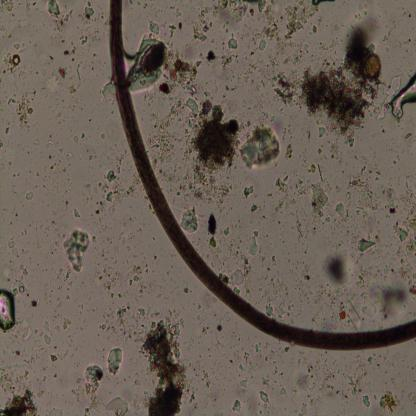Air bubble: (391, 73, 416, 120), (0, 286, 18, 332)
Background material: (286, 6, 392, 137), (181, 96, 240, 168), (139, 320, 184, 414), (255, 2, 324, 54), (100, 267, 148, 340), (128, 20, 171, 92), (174, 163, 232, 209), (149, 100, 181, 168), (294, 156, 330, 214), (240, 125, 282, 168), (346, 163, 378, 217), (93, 169, 125, 220), (267, 66, 298, 115), (394, 214, 416, 281), (325, 285, 360, 327), (162, 58, 202, 94), (60, 228, 90, 273), (381, 282, 416, 320), (295, 360, 335, 393), (7, 90, 38, 131), (262, 285, 296, 320), (0, 385, 37, 415), (39, 57, 63, 98), (323, 248, 350, 284), (189, 10, 214, 46), (220, 1, 255, 26), (207, 39, 241, 64), (78, 360, 104, 392), (102, 345, 124, 379), (382, 182, 402, 219), (0, 367, 33, 389), (178, 204, 200, 236), (344, 371, 367, 400), (377, 387, 402, 413), (47, 1, 74, 25), (102, 393, 130, 415), (402, 172, 416, 214), (244, 227, 262, 259), (266, 194, 286, 222), (356, 265, 376, 292), (204, 212, 218, 250), (226, 263, 247, 288), (233, 346, 252, 372), (12, 265, 30, 292), (0, 52, 22, 74), (262, 265, 285, 286), (238, 60, 258, 84), (359, 294, 378, 319), (353, 236, 382, 252), (128, 391, 150, 412), (56, 268, 75, 292), (300, 262, 318, 286), (310, 215, 331, 235), (88, 389, 103, 416), (274, 173, 292, 195), (100, 77, 116, 101), (69, 63, 81, 95), (80, 0, 96, 24), (335, 202, 351, 226), (41, 320, 54, 348), (125, 173, 140, 197), (297, 217, 310, 244), (72, 372, 82, 406), (211, 246, 228, 266), (329, 139, 343, 163), (367, 350, 381, 374), (185, 357, 200, 379), (64, 96, 82, 114), (25, 0, 41, 20), (226, 240, 242, 260), (186, 387, 199, 410), (23, 351, 44, 365), (47, 162, 65, 178), (82, 177, 93, 203), (313, 285, 326, 307), (296, 398, 311, 416), (211, 63, 227, 79), (162, 308, 180, 322), (56, 290, 68, 311), (298, 288, 312, 306), (257, 390, 272, 406), (7, 238, 19, 258), (56, 317, 72, 332), (200, 368, 212, 388), (383, 356, 400, 370), (43, 132, 55, 151), (0, 0, 15, 15), (63, 45, 77, 61), (57, 344, 70, 361), (258, 74, 268, 96), (55, 25, 67, 43), (258, 110, 276, 122), (272, 360, 284, 378), (360, 392, 372, 410), (241, 257, 251, 278), (160, 169, 174, 184), (20, 222, 35, 236), (115, 150, 126, 169), (354, 353, 365, 372), (237, 377, 250, 393), (242, 182, 255, 198), (231, 397, 243, 414), (119, 234, 131, 251), (284, 144, 294, 164), (22, 324, 33, 342), (208, 390, 219, 408), (168, 6, 183, 19), (200, 324, 212, 340), (48, 404, 64, 416), (310, 312, 322, 328), (348, 252, 364, 264), (127, 353, 138, 370), (212, 3, 223, 20), (374, 219, 382, 242), (1, 27, 14, 41), (209, 339, 224, 351), (210, 75, 218, 97), (55, 112, 66, 128), (146, 306, 162, 317), (285, 122, 294, 141), (50, 239, 60, 256), (337, 386, 348, 401), (252, 339, 263, 354), (72, 132, 87, 143), (77, 30, 88, 45), (381, 264, 391, 280), (270, 54, 280, 70), (387, 374, 398, 388), (72, 206, 82, 221), (142, 92, 157, 102), (359, 154, 371, 166), (169, 24, 178, 40), (260, 374, 272, 386), (39, 372, 50, 385), (252, 360, 262, 374), (91, 28, 100, 43), (30, 296, 41, 308), (378, 121, 388, 134), (408, 392, 416, 408), (280, 127, 288, 143), (221, 20, 230, 34), (309, 394, 318, 408), (215, 320, 223, 335), (366, 226, 374, 241), (278, 385, 288, 397), (250, 203, 260, 215), (100, 247, 110, 259), (224, 75, 238, 83), (131, 371, 138, 387), (270, 254, 278, 268), (57, 67, 67, 78), (50, 352, 60, 363), (201, 87, 211, 98), (346, 137, 355, 149), (64, 194, 70, 211), (98, 325, 107, 336), (177, 22, 186, 33), (223, 227, 232, 238), (25, 191, 34, 202), (255, 101, 264, 112), (235, 214, 242, 228), (404, 129, 412, 141), (3, 126, 15, 134), (49, 221, 61, 229), (269, 348, 275, 363), (344, 228, 354, 237), (242, 117, 251, 127), (195, 314, 205, 323), (81, 407, 91, 416), (226, 354, 234, 365), (0, 346, 8, 357), (79, 302, 86, 314), (224, 85, 236, 92), (4, 268, 10, 282), (199, 50, 206, 62), (254, 407, 263, 416), (85, 114, 94, 123), (248, 50, 258, 58), (58, 147, 65, 158), (92, 233, 98, 245), (352, 152, 360, 161), (338, 365, 344, 377), (263, 355, 270, 365), (155, 291, 165, 298), (38, 390, 46, 398), (136, 226, 144, 234), (12, 42, 20, 50), (99, 131, 106, 140), (99, 9, 104, 21), (212, 294, 218, 304), (306, 130, 312, 140), (0, 138, 6, 148), (6, 220, 14, 227), (13, 170, 20, 178), (376, 170, 381, 181), (304, 245, 310, 254), (335, 184, 341, 193), (259, 214, 268, 220), (377, 269, 382, 279), (42, 183, 48, 191), (302, 161, 308, 169), (35, 169, 41, 177), (34, 138, 40, 146), (15, 349, 23, 355), (86, 154, 92, 162), (372, 393, 378, 401), (318, 147, 323, 156), (183, 286, 188, 295), (338, 240, 344, 247), (143, 2, 149, 9), (92, 51, 98, 58), (390, 266, 396, 273), (66, 294, 72, 301), (13, 210, 18, 218), (46, 155, 54, 160), (25, 148, 30, 156), (392, 160, 398, 166), (198, 301, 202, 310), (97, 274, 103, 280), (151, 235, 156, 242), (48, 300, 53, 307), (398, 152, 402, 160), (276, 220, 282, 225), (340, 169, 346, 174), (128, 0, 134, 5), (169, 264, 175, 269), (284, 347, 288, 354), (153, 254, 157, 260), (70, 39, 74, 45), (92, 306, 96, 312), (250, 374, 254, 380), (42, 268, 48, 272), (91, 66, 95, 72), (389, 146, 393, 152), (238, 336, 242, 342), (9, 160, 12, 167), (50, 54, 53, 61), (198, 353, 202, 358), (55, 374, 59, 379), (230, 33, 234, 38), (166, 270, 169, 276), (274, 378, 278, 382), (411, 366, 414, 370)
Microfibre: (107, 0, 416, 353)
